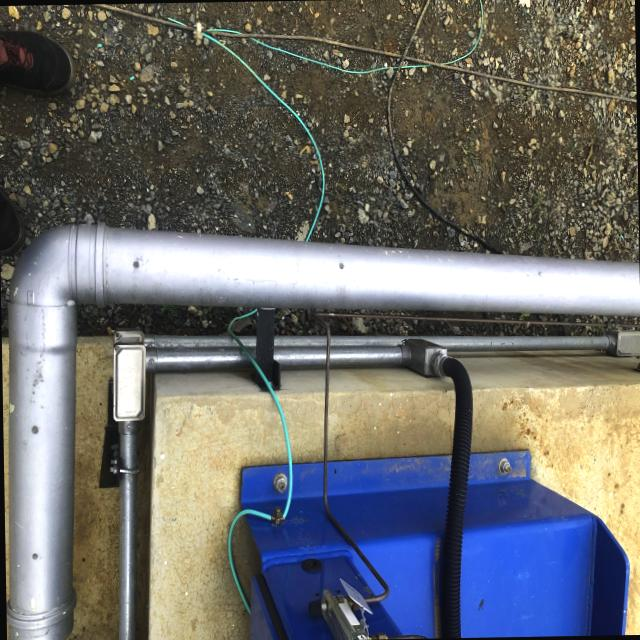gas: (9, 214, 640, 328), (6, 225, 77, 640)
